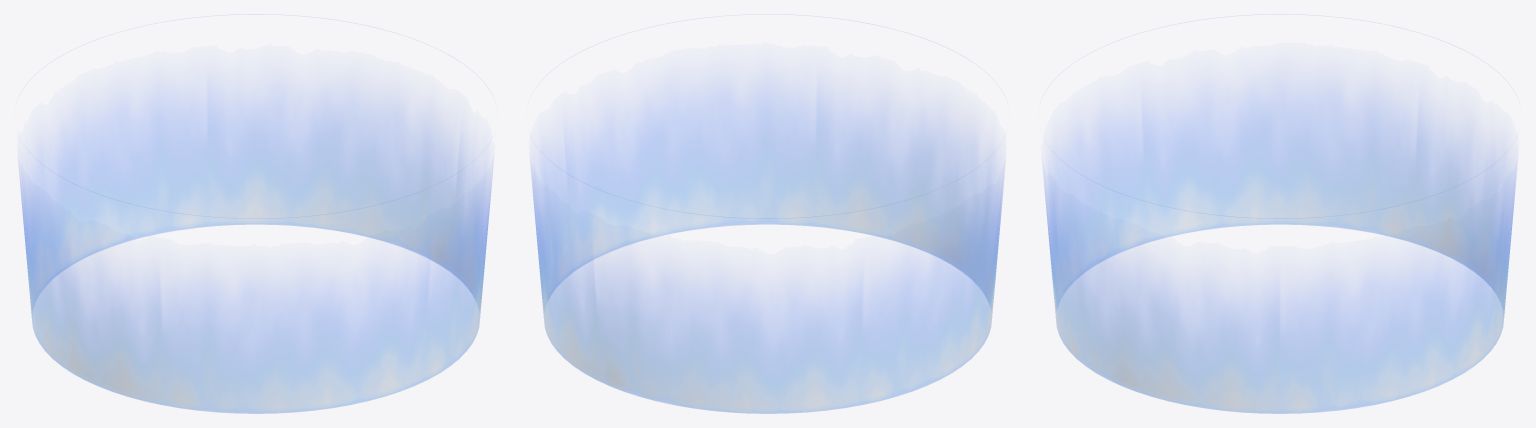
File: shock_wall_azure.glb
The picture shows the model from 3 angles, left to right: view 1: azimuth 30°, elevation 25°; view 2: azimuth 150°, elevation 25°; view 3: azimuth 270°, elevation 25°; orthographic projection.
Parts seen in each view (by area): view 1: wall; view 2: wall; view 3: wall.
Part boxes in pixels (bbox=[...]): wall: bbox=[19, 14, 492, 413]; wall: bbox=[531, 15, 1003, 413]; wall: bbox=[1044, 14, 1516, 413].
Bounding box in the file's own units: 2.16 × 1 × 2.16.
1 material, 1 textured.
